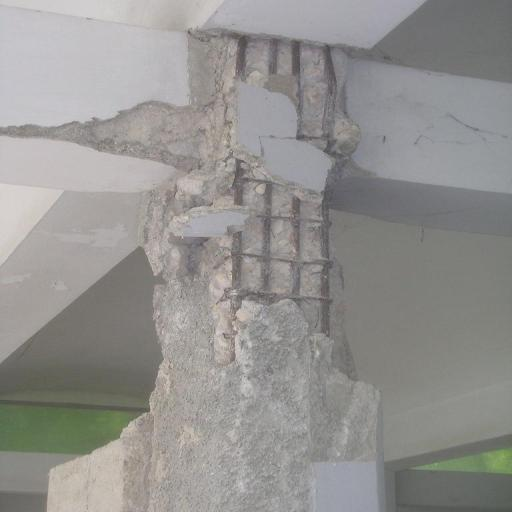spalling: (198, 32, 353, 466), (9, 99, 192, 170)
